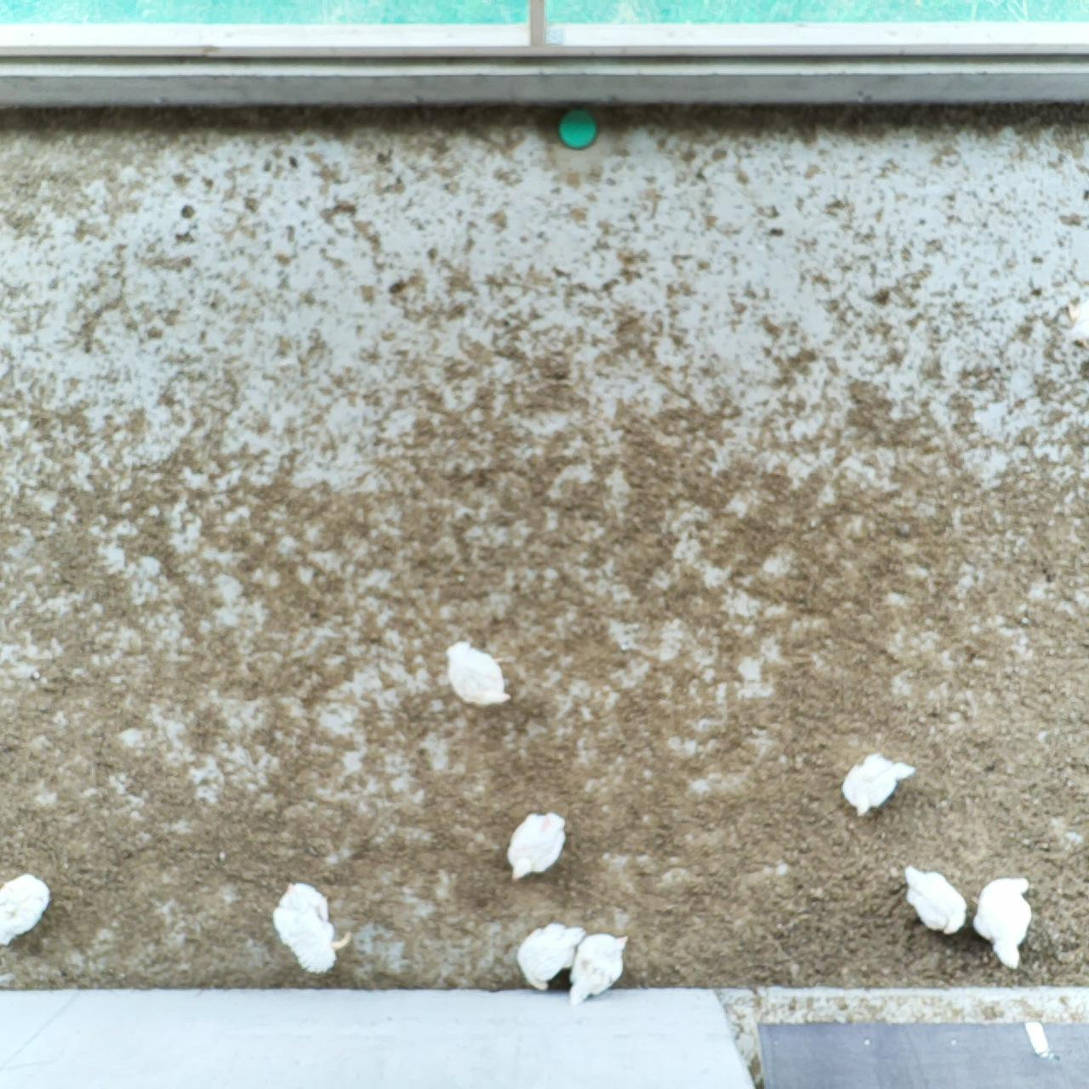chicken: (269, 879, 357, 980), (972, 872, 1039, 974), (837, 750, 923, 827), (897, 858, 973, 938), (512, 918, 589, 995), (566, 929, 635, 1012), (439, 638, 516, 710), (497, 809, 572, 882), (0, 871, 54, 952)
